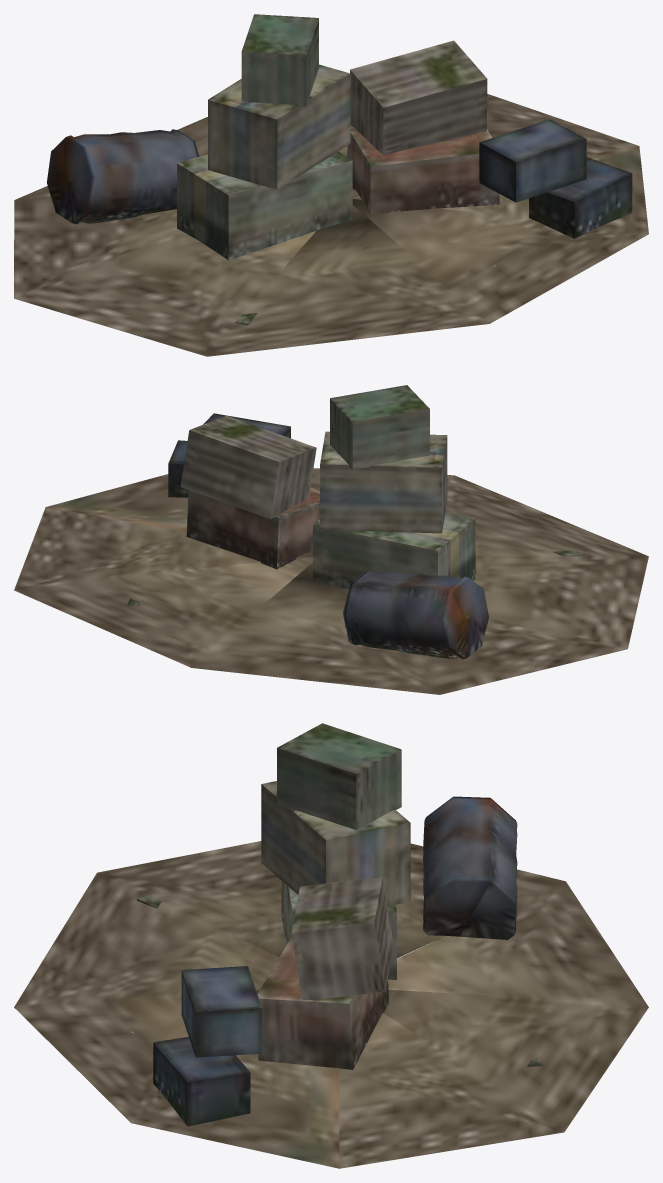
File: kit_crate_stack_far.glb
3 views of the same model, one above another, from view 1: azimuth 30°, elevation 25°; view 2: azimuth 150°, elevation 25°; view 3: azimuth 270°, elevation 25° (orthographic). The views are drawn at different scales.
Parts seen in each view (by area): view 1: body, crate_1, crate_4, crate_3, drum, crate_2, crate_7, crate_5, crate_6; view 2: body, drum, crate_4, crate_3, crate_1, crate_5, crate_2, crate_6, crate_7; view 3: body, drum, crate_4, crate_3, crate_5, crate_2, crate_7, crate_6, crate_1.
Part boxes in pixels (left/top/right/bottom): body: left=14, top=94, right=648, bottom=356; crate_1: left=177, top=151, right=352, bottom=260; crate_4: left=350, top=40, right=487, bottom=154; crate_3: left=208, top=64, right=350, bottom=189; drum: left=47, top=129, right=199, bottom=224; crate_2: left=347, top=127, right=499, bottom=213; crate_7: left=479, top=119, right=586, bottom=202; crate_5: left=241, top=14, right=318, bottom=106; crate_6: left=529, top=157, right=632, bottom=238; body: left=14, top=468, right=648, bottom=694; drum: left=343, top=570, right=488, bottom=659; crate_4: left=180, top=415, right=316, bottom=518; crate_3: left=320, top=431, right=447, bottom=533; crate_1: left=313, top=512, right=475, bottom=589; crate_5: left=330, top=385, right=429, bottom=469; crate_2: left=186, top=488, right=319, bottom=569; crate_6: left=168, top=440, right=188, bottom=497; crate_7: left=203, top=413, right=290, bottom=438; body: left=14, top=841, right=648, bottom=1168; drum: left=423, top=796, right=517, bottom=939; crate_4: left=291, top=876, right=393, bottom=1000; crate_3: left=261, top=781, right=410, bottom=906; crate_5: left=277, top=723, right=401, bottom=829; crate_2: left=257, top=936, right=389, bottom=1069; crate_7: left=181, top=966, right=262, bottom=1057; crate_6: left=153, top=1037, right=250, bottom=1126; crate_1: left=281, top=881, right=396, bottom=979.
Size of what is drawn, in the model's own units: 4.84 by 1.54 by 3.79.
Materials: 1 (1 with a texture image).
